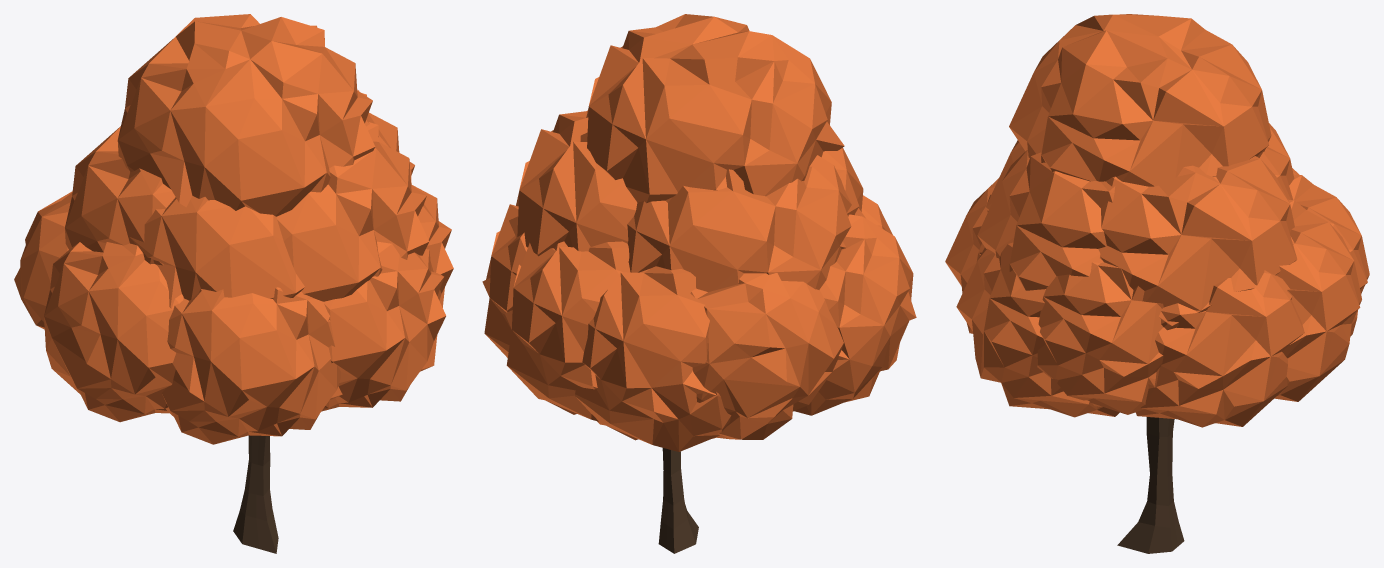
File: fall tree 8.fbx
3 views of the same model, side by side, from view 1: azimuth 30°, elevation 25°; view 2: azimuth 150°, elevation 25°; view 3: azimuth 270°, elevation 25° (orthographic). The views are drawn at different scales.
Visible parts, largest first — view 1: LowPoly Tree .005; view 2: LowPoly Tree .005; view 3: LowPoly Tree .005.
Part boxes in pixels (x1,y1,x2,y2): LowPoly Tree .005: (14, 14, 453, 553); LowPoly Tree .005: (482, 14, 916, 553); LowPoly Tree .005: (945, 14, 1369, 553).
Size of the model in its own units: 145 by 190 by 144.
